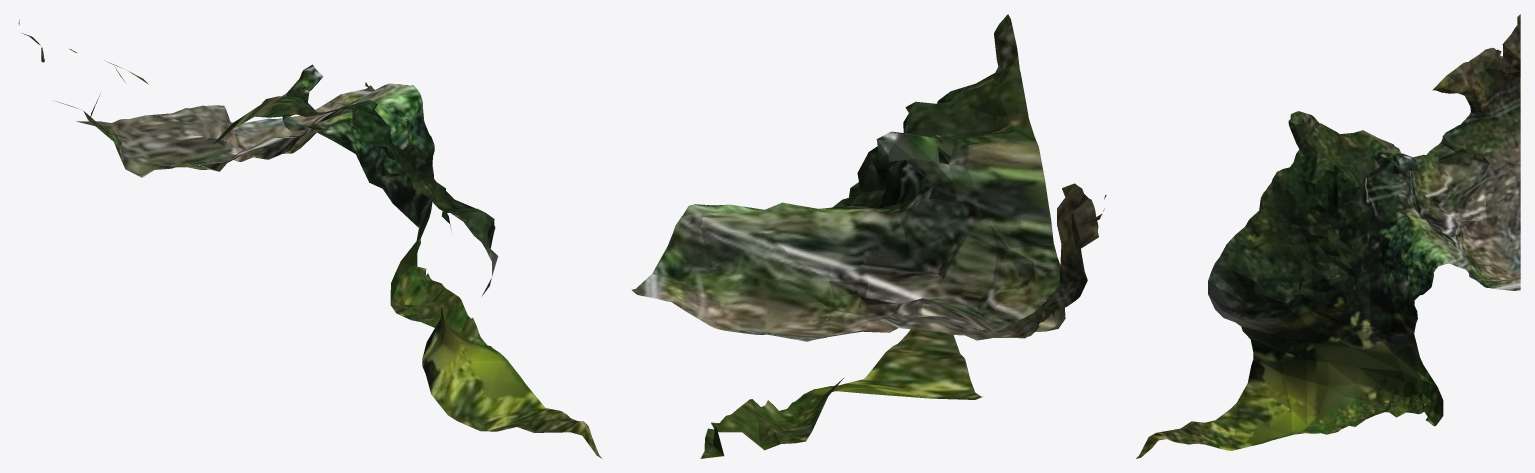
3 renders of one model, left to right at view 1: azimuth 30°, elevation 25°; view 2: azimuth 150°, elevation 25°; view 3: azimuth 270°, elevation 25°, orthographic. The views are drawn at different scales.
Size of the model in its own units: 5.58 by 5.41 by 6.29.
2 materials, 2 textured.
